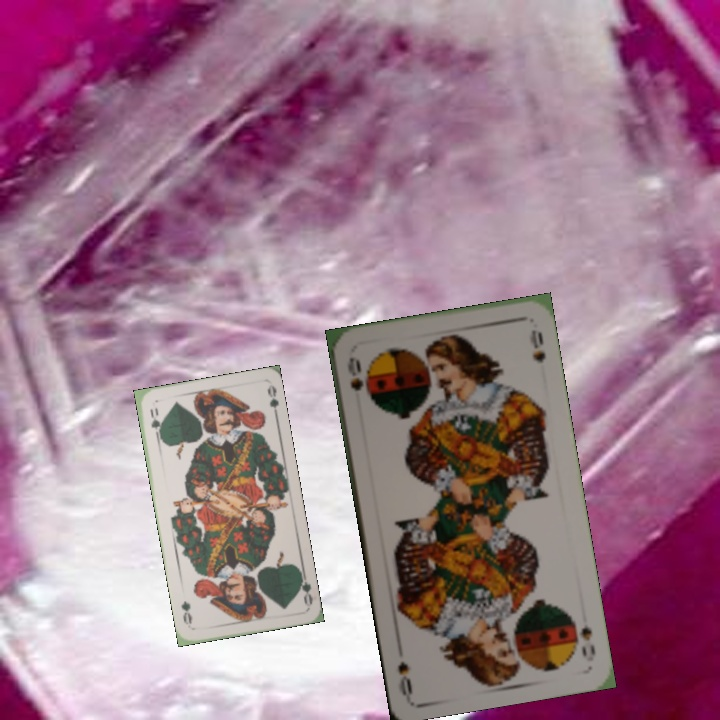GO: (294, 567, 316, 608), (146, 403, 165, 442)
SO: (569, 617, 598, 660), (343, 353, 366, 394)
